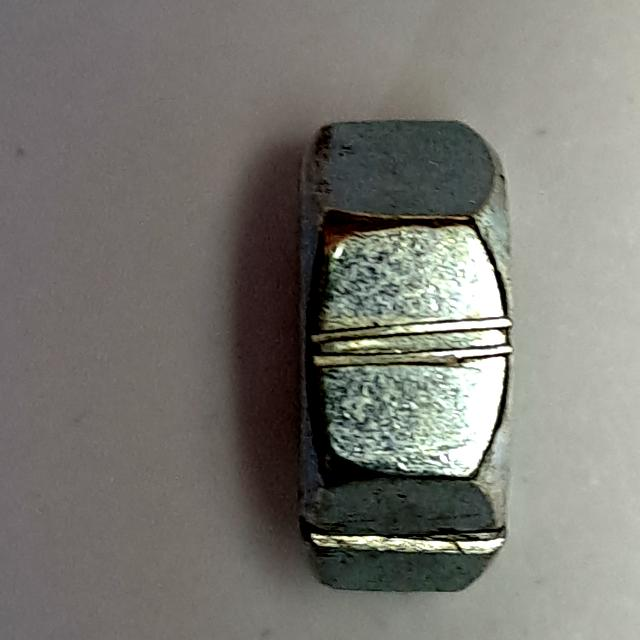Side_Scratches: (273, 100, 533, 613)
